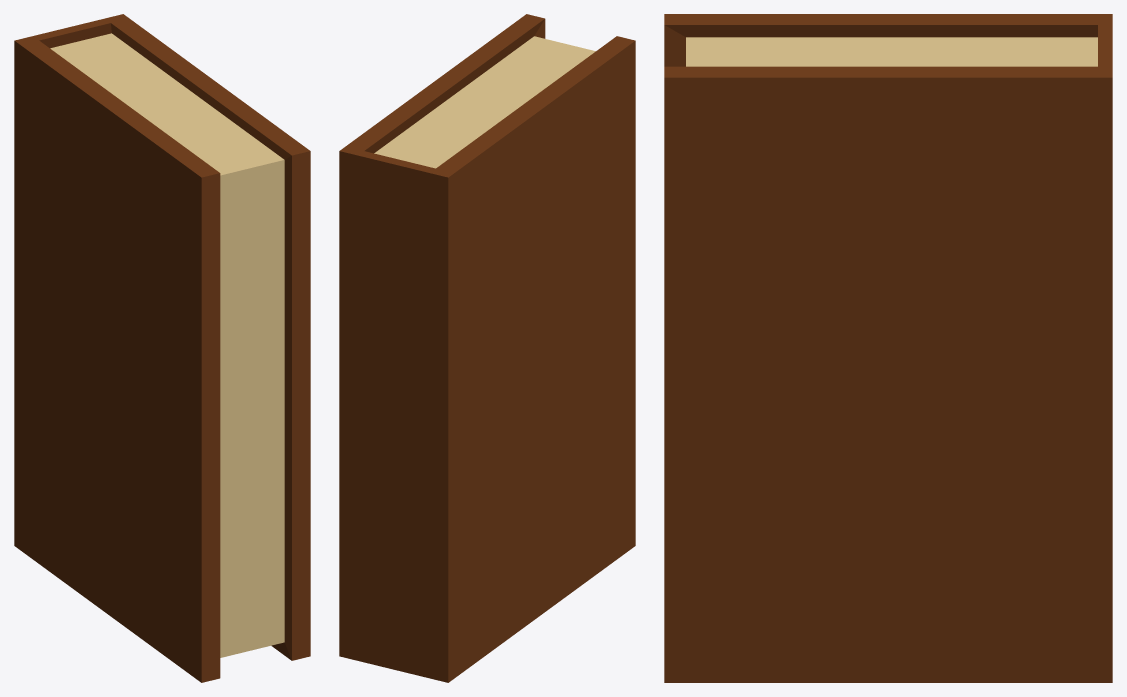
The model's file is Book1_003.fbx.
3 renders of one model, left to right at view 1: azimuth 30°, elevation 25°; view 2: azimuth 150°, elevation 25°; view 3: azimuth 270°, elevation 25°, orthographic. The views are drawn at different scales.
Parts seen in each view (by area): view 1: Book1.003; view 2: Book1.003; view 3: Book1.003.
Part boxes in pixels (<box>): Book1.003: <box>14,14,310,682</box>; Book1.003: <box>339,14,635,682</box>; Book1.003: <box>664,14,1112,682</box>.
Bounding box in the file's own units: 10.24 × 45.39 × 30.47.
